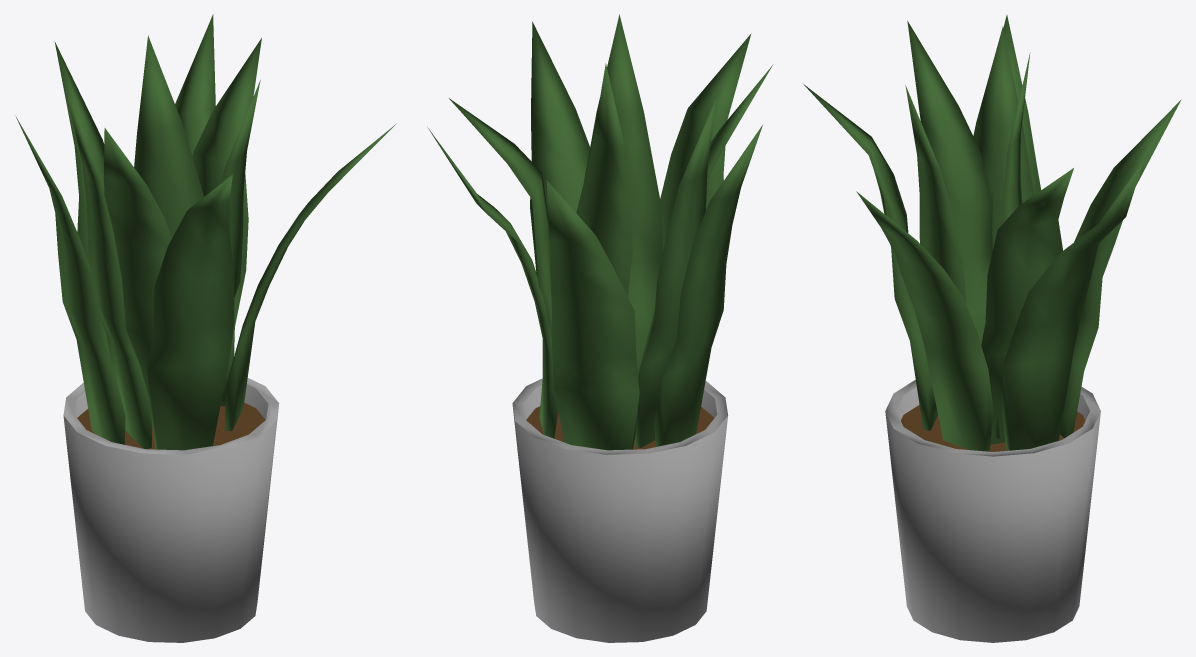
The model's file is Aloe.fbx.
3 renders of one model, left to right at view 1: azimuth 30°, elevation 25°; view 2: azimuth 150°, elevation 25°; view 3: azimuth 270°, elevation 25°, orthographic.
Parts seen in each view (by area): view 1: Pot, SnakePlant leaf.008, SnakePlant leaf, SnakePlant leaf.005, SnakePlant leaf.001, SnakePlant leaf.004, SnakePlant leaf.002, SnakePlant leaf.007, SnakePlant leaf.009, SnakePlant leaf.006, SnakePlant leaf.003; view 2: Pot, SnakePlant leaf.006, SnakePlant leaf.005, SnakePlant leaf.003, SnakePlant leaf.001, SnakePlant leaf.004, SnakePlant leaf.007, SnakePlant leaf.008, SnakePlant leaf.002, SnakePlant leaf.009, SnakePlant leaf; view 3: Pot, SnakePlant leaf.009, SnakePlant leaf.007, SnakePlant leaf, SnakePlant leaf.002, SnakePlant leaf.006, SnakePlant leaf.001, SnakePlant leaf.008, SnakePlant leaf.003, SnakePlant leaf.004, SnakePlant leaf.005.
Part boxes in pixels (bbox=[...]): Pot: bbox=[63, 378, 279, 642]; SnakePlant leaf.008: bbox=[147, 174, 234, 450]; SnakePlant leaf: bbox=[104, 128, 171, 398]; SnakePlant leaf.005: bbox=[15, 115, 125, 444]; SnakePlant leaf.001: bbox=[66, 92, 151, 448]; SnakePlant leaf.004: bbox=[134, 35, 203, 237]; SnakePlant leaf.002: bbox=[192, 38, 261, 340]; SnakePlant leaf.007: bbox=[224, 123, 396, 430]; SnakePlant leaf.009: bbox=[175, 14, 234, 406]; SnakePlant leaf.006: bbox=[54, 41, 110, 361]; SnakePlant leaf.003: bbox=[220, 80, 260, 297]; Pot: bbox=[512, 378, 728, 642]; SnakePlant leaf.006: bbox=[546, 180, 639, 450]; SnakePlant leaf.005: bbox=[654, 125, 762, 446]; SnakePlant leaf.003: bbox=[583, 14, 662, 376]; SnakePlant leaf.001: bbox=[634, 99, 715, 447]; SnakePlant leaf.004: bbox=[576, 63, 632, 296]; SnakePlant leaf.007: bbox=[530, 21, 589, 276]; SnakePlant leaf.008: bbox=[660, 33, 751, 252]; SnakePlant leaf.002: bbox=[449, 98, 551, 333]; SnakePlant leaf.009: bbox=[427, 127, 558, 438]; SnakePlant leaf: bbox=[642, 64, 773, 366]; Pot: bbox=[885, 380, 1100, 642]; SnakePlant leaf.009: bbox=[1002, 160, 1143, 450]; SnakePlant leaf.007: bbox=[856, 191, 993, 451]; SnakePlant leaf: bbox=[907, 21, 992, 344]; SnakePlant leaf.002: bbox=[981, 168, 1073, 444]; SnakePlant leaf.006: bbox=[1060, 99, 1181, 437]; SnakePlant leaf.001: bbox=[973, 26, 1033, 249]; SnakePlant leaf.008: bbox=[803, 84, 937, 430]; SnakePlant leaf.003: bbox=[905, 85, 966, 303]; SnakePlant leaf.004: bbox=[995, 52, 1030, 438]; SnakePlant leaf.005: bbox=[1003, 15, 1040, 194].
Size of the model in its own units: 88.03 by 81.51 by 142.
